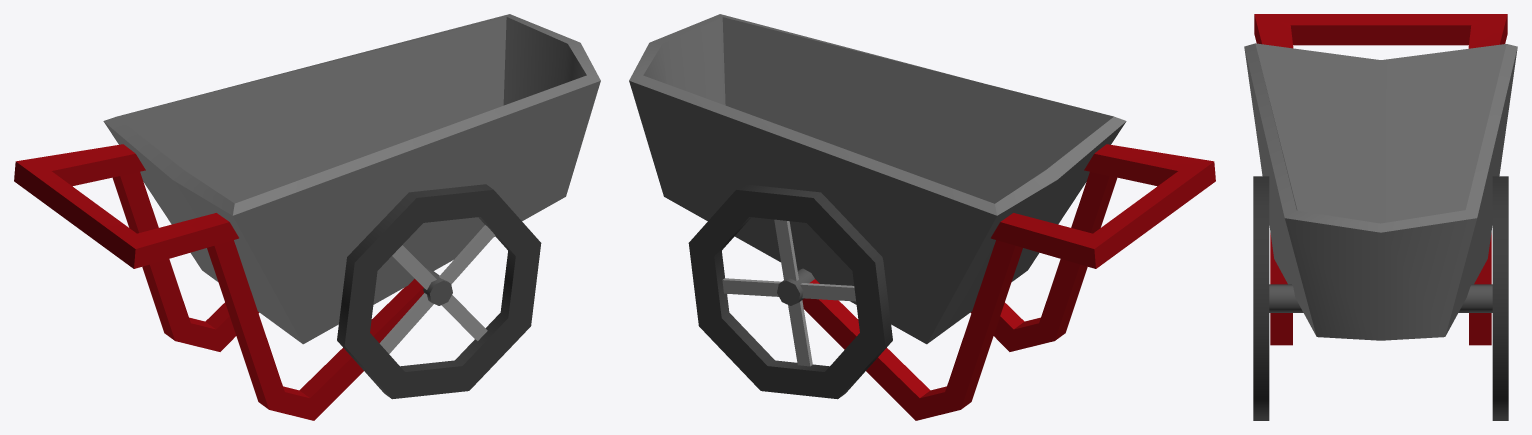
Rendered from SM_Cement_Stroller.fbx.
3 renders of one model, left to right at view 1: azimuth 30°, elevation 25°; view 2: azimuth 150°, elevation 25°; view 3: azimuth 270°, elevation 25°, orthographic. The views are drawn at different scales.
Parts seen in each view (by area): view 1: SM_Cement_Stroller; view 2: SM_Cement_Stroller; view 3: SM_Cement_Stroller.
Part boxes in pixels (bbox=[...]): SM_Cement_Stroller: bbox=[14, 14, 600, 420]; SM_Cement_Stroller: bbox=[629, 14, 1215, 420]; SM_Cement_Stroller: bbox=[1244, 14, 1517, 420].
Size of the model in its own units: 260 by 131 by 115.
